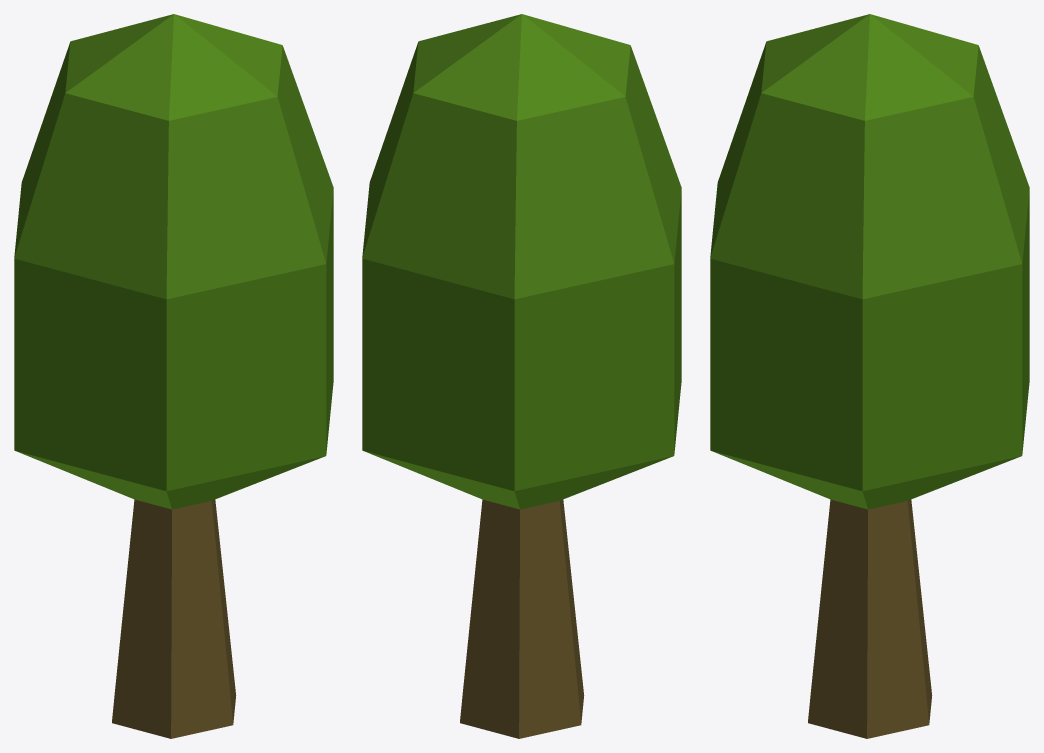
The model's file is Vegetation_Tree_Common_Spring_02.fbx.
The picture shows the model from 3 angles, left to right: view 1: azimuth 30°, elevation 25°; view 2: azimuth 150°, elevation 25°; view 3: azimuth 270°, elevation 25°; orthographic projection.
Parts seen in each view (by area): view 1: Vegetation_Tree_Common_Spring_02; view 2: Vegetation_Tree_Common_Spring_02; view 3: Vegetation_Tree_Common_Spring_02.
Boxes of the visible parts, x1,y1,x2,y2 form: Vegetation_Tree_Common_Spring_02: (14, 14, 333, 738); Vegetation_Tree_Common_Spring_02: (362, 14, 681, 738); Vegetation_Tree_Common_Spring_02: (710, 14, 1029, 738).
Size of the model in its own units: 1488 by 3167 by 1319.
